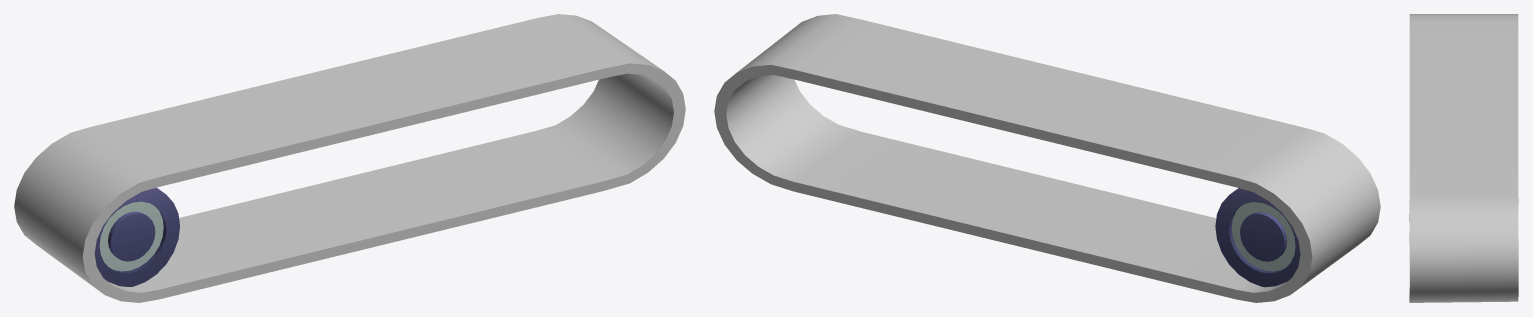
File: BantPaper.fbx
The picture shows the model from 3 angles, left to right: view 1: azimuth 30°, elevation 25°; view 2: azimuth 150°, elevation 25°; view 3: azimuth 270°, elevation 25°; orthographic projection. The views are drawn at different scales.
Parts seen in each view (by area): view 1: Bant, Cylinder.006; view 2: Bant, Cylinder.006; view 3: Bant.
Boxes of the visible parts, x1,y1,x2,y2 form: Bant: (14, 14, 685, 302); Cylinder.006: (94, 187, 179, 286); Bant: (714, 14, 1380, 302); Cylinder.006: (1215, 188, 1300, 287); Bant: (1409, 14, 1518, 302).
Bounding box in the file's own units: 1061 × 206 × 210.
